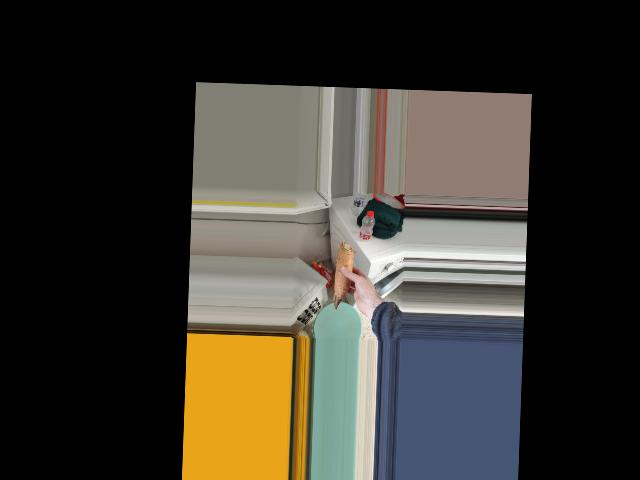sweet_potato: (327, 244, 354, 309)
